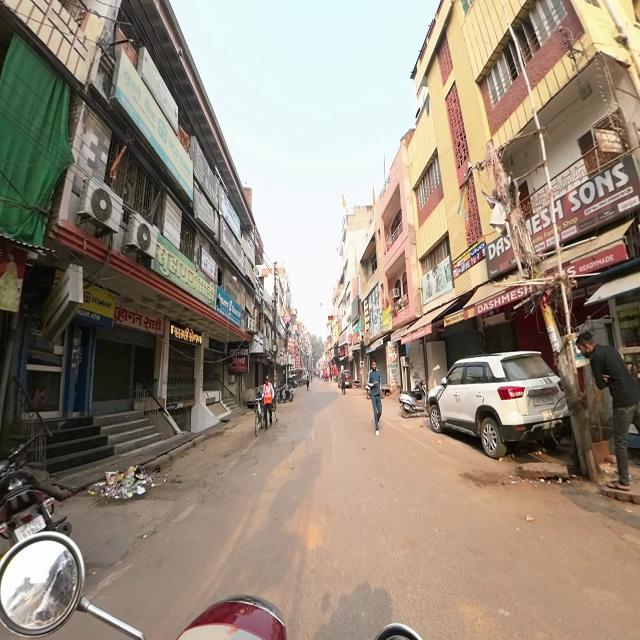Garbage: (103, 466, 139, 498)
